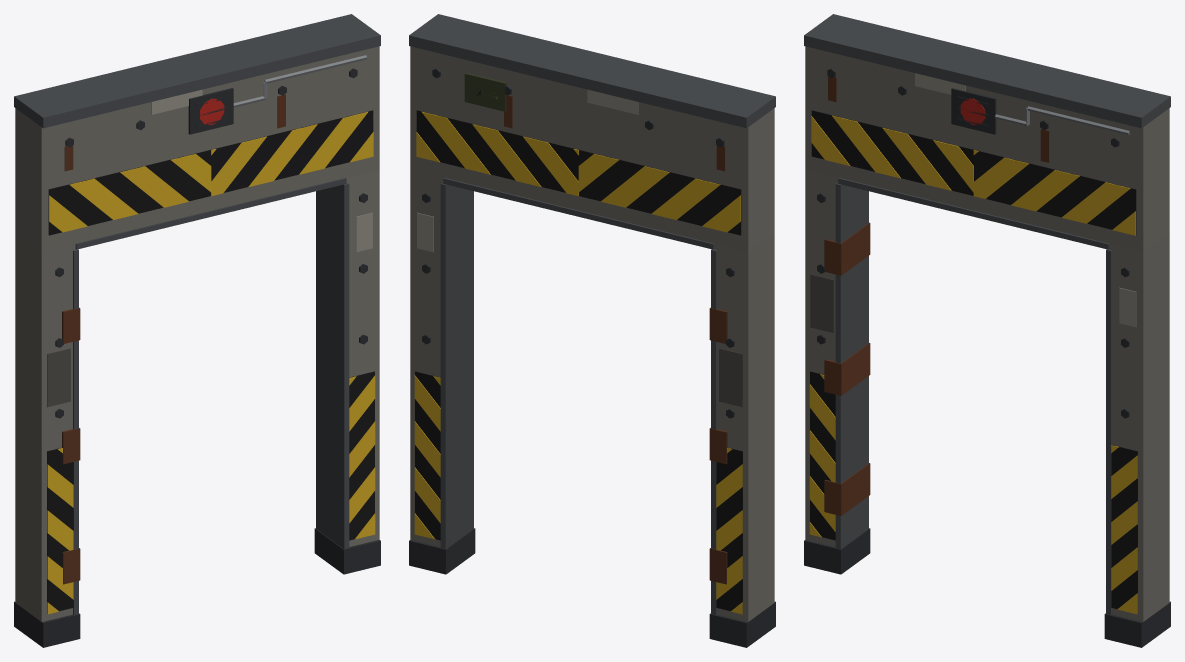
The model's file is door_frame.fbx.
3 views of the same model, side by side, from view 1: azimuth 30°, elevation 25°; view 2: azimuth 150°, elevation 25°; view 3: azimuth 330°, elevation 25° (orthographic).
Visible parts, largest first — view 1: door_frame; view 2: door_frame; view 3: door_frame.
Part boxes in pixels (x1,y1,x2,y2): door_frame: (14,14,380,647); door_frame: (409,14,775,647); door_frame: (804,14,1170,647).
Size of the model in its own units: 2 by 3 by 0.3.
